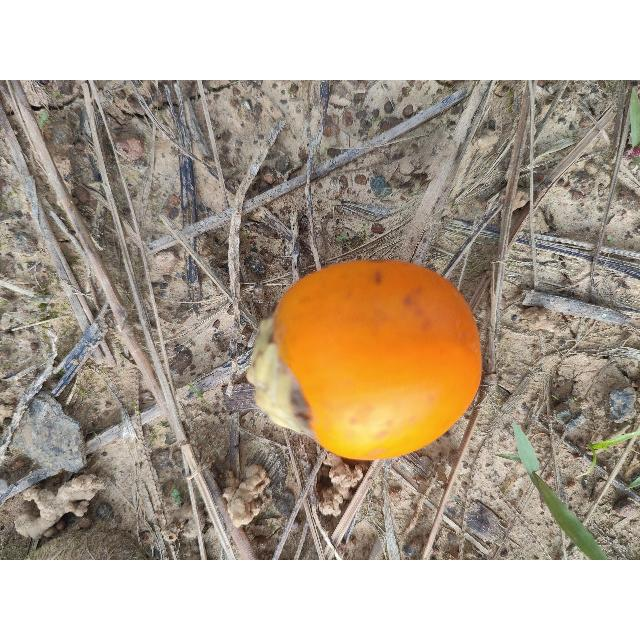good: (248, 260, 485, 463)
